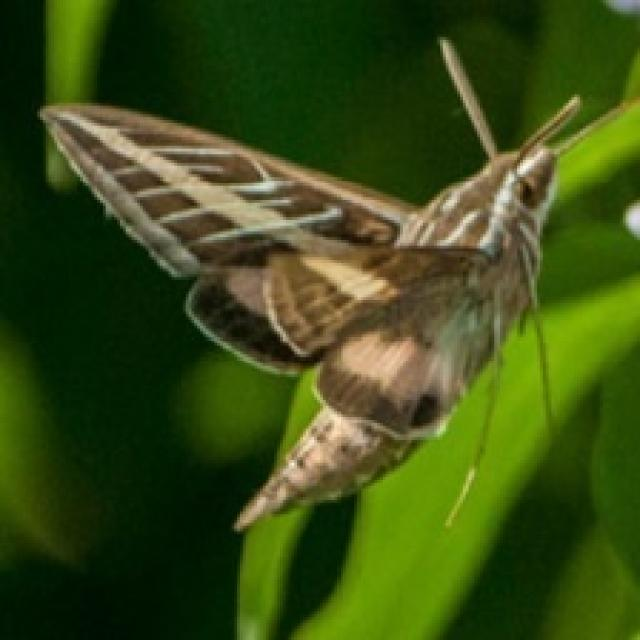butterfly: (34, 31, 637, 532)
